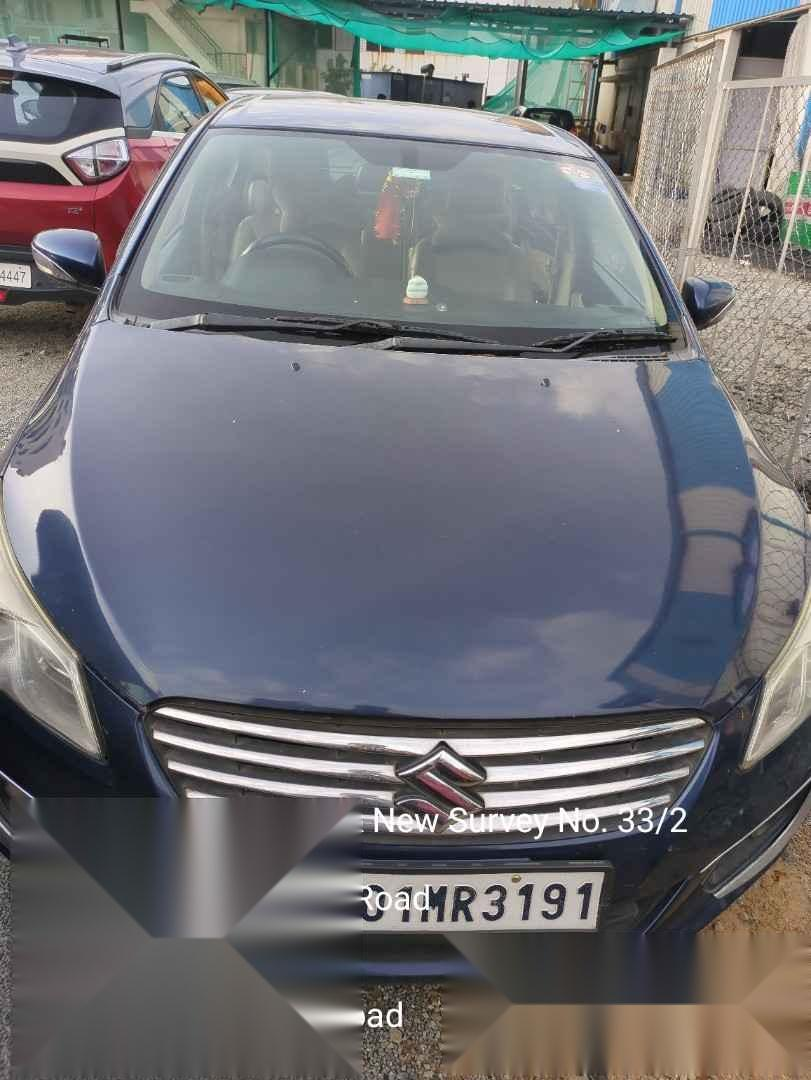FastTag: (374, 159, 449, 190)
